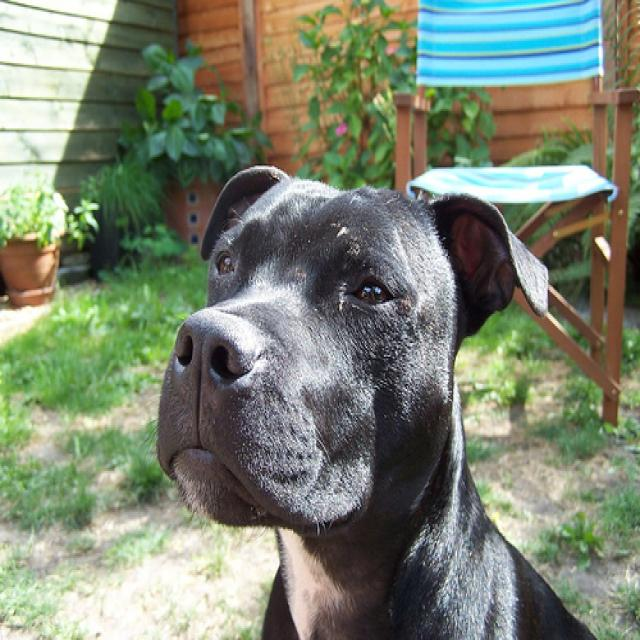dog-staffordshire_bull_terrier: (148, 159, 599, 637)
